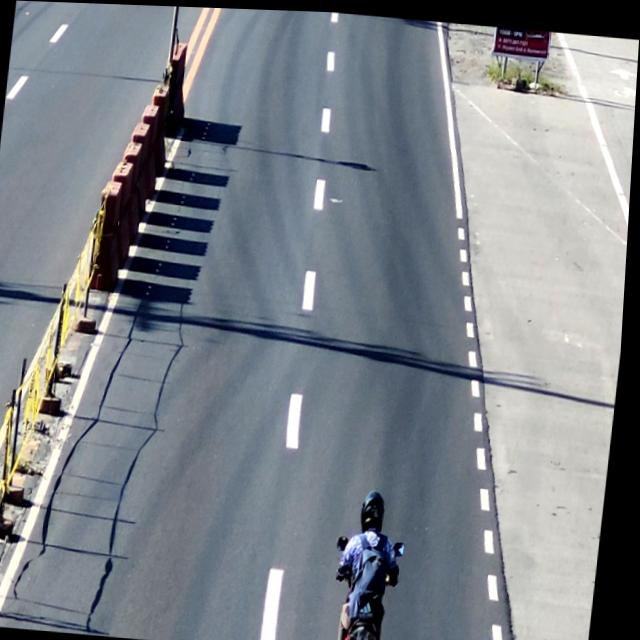Motorcycle: (338, 476, 416, 640)
